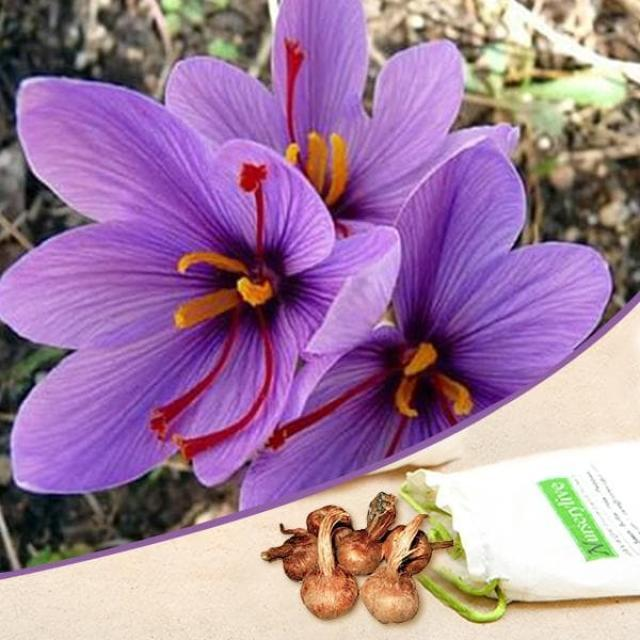Flower: (17, 94, 425, 470), (260, 173, 594, 514), (150, 11, 472, 232)
stigma: (182, 322, 278, 460), (264, 355, 384, 450), (152, 317, 242, 435), (273, 39, 309, 146)
